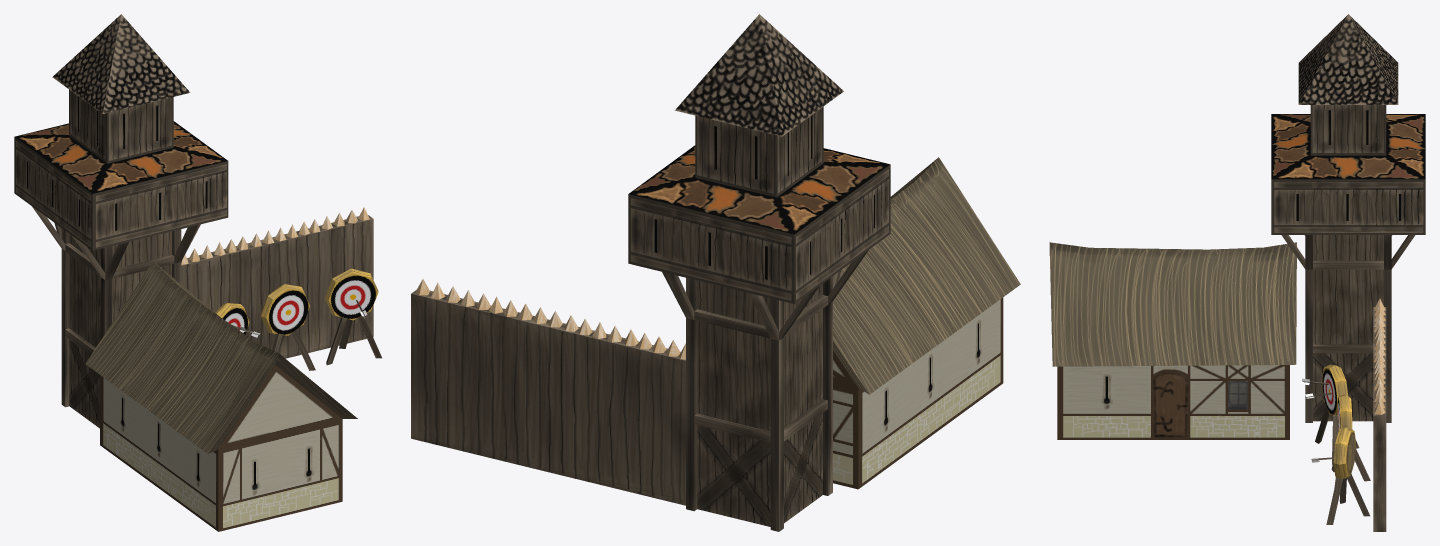
Rendered from archerie.obj.
3 views of the same model, side by side, from view 1: azimuth 30°, elevation 25°; view 2: azimuth 150°, elevation 25°; view 3: azimuth 270°, elevation 25° (orthographic). The views are drawn at different scales.
Visible parts, largest first — view 1: Plane_Plane.001; view 2: Plane_Plane.001; view 3: Plane_Plane.001.
Part boxes in pixels (x1,y1,x2,y2): Plane_Plane.001: (14,14,381,531); Plane_Plane.001: (411,14,1020,531); Plane_Plane.001: (1049,14,1425,531).
Size of the model in its own units: 2.95 by 3.36 by 2.93.
